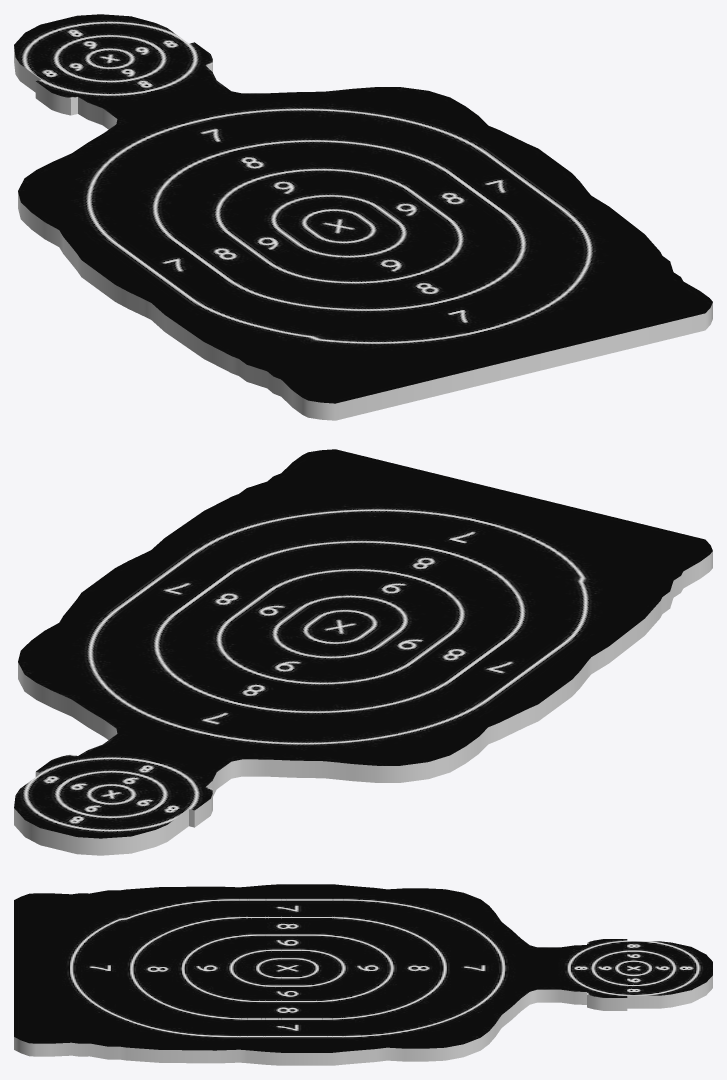
The model's file is 표적지.fbx.
The picture shows the model from 3 angles, top to bottom: view 1: azimuth 30°, elevation 25°; view 2: azimuth 150°, elevation 25°; view 3: azimuth 270°, elevation 25°; orthographic projection. The views are drawn at different scales.
Visible parts, largest first — view 1: Line001; view 2: Line001; view 3: Line001.
Boxes of the visible parts, box(x1,y1,x2,y2) form: Line001: box(14, 14, 712, 420); Line001: box(14, 449, 712, 855); Line001: box(14, 884, 712, 1065).
Bounding box in the file's own units: 83.79 × 3 × 147.
